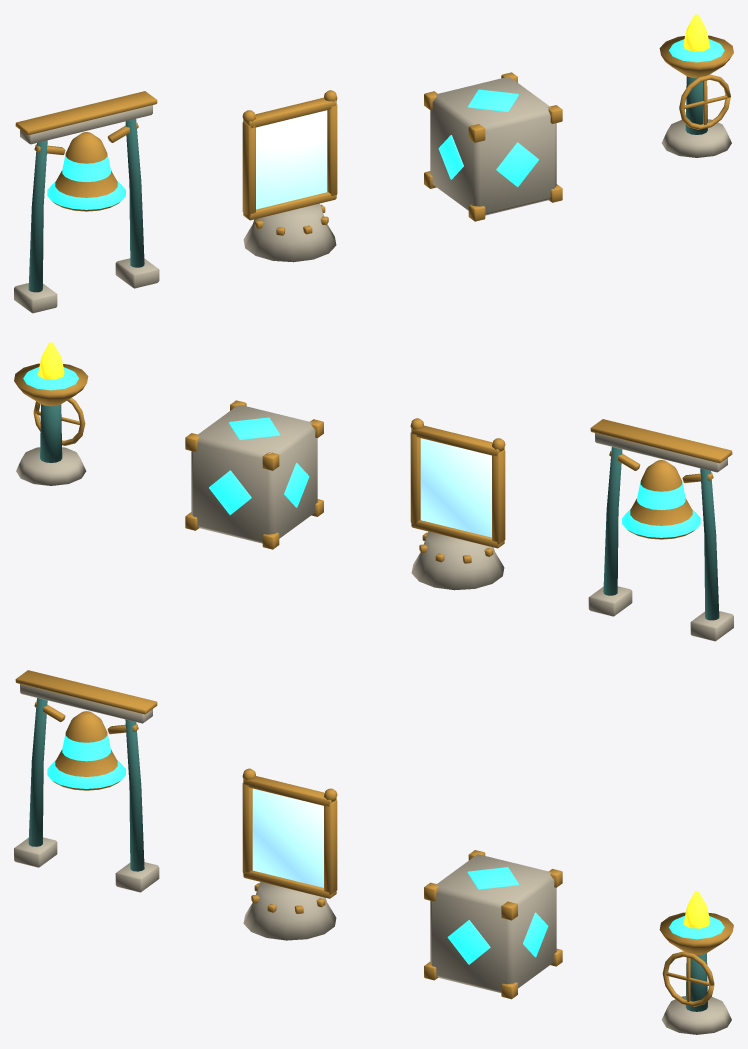
Rendered from puzzle_props.glb.
3 views of the same model, one above another, from view 1: azimuth 30°, elevation 25°; view 2: azimuth 150°, elevation 25°; view 3: azimuth 330°, elevation 25° (orthographic).
Parts seen in each view (by area): view 1: monolith_body, mirror_turret, bell_yoke, brazier_body, bell_body, mirror_base; view 2: monolith_body, mirror_turret, bell_yoke, brazier_body, bell_body, mirror_base; view 3: monolith_body, mirror_turret, bell_yoke, brazier_body, bell_body, mirror_base.
Boxes of the visible parts, box(x1,y1,x2,y2) form: monolith_body: box(424, 72, 562, 221); mirror_turret: box(242, 90, 337, 220); bell_yoke: box(14, 91, 159, 313); brazier_body: box(659, 14, 733, 157); bell_body: box(47, 132, 125, 211); mirror_base: box(243, 203, 336, 262); monolith_body: box(185, 400, 323, 549); mirror_turret: box(410, 418, 505, 548); bell_yoke: box(588, 419, 733, 641); brazier_body: box(14, 342, 88, 485); bell_body: box(622, 460, 700, 539); mirror_base: box(411, 531, 504, 590); monolith_body: box(424, 850, 562, 999); mirror_turret: box(242, 768, 337, 898); bell_yoke: box(14, 670, 159, 892); brazier_body: box(659, 891, 733, 1034); bell_body: box(47, 711, 125, 790); mirror_base: box(243, 882, 336, 940).
Size of the model in its own units: 6.95 by 1.7 by 0.87.
